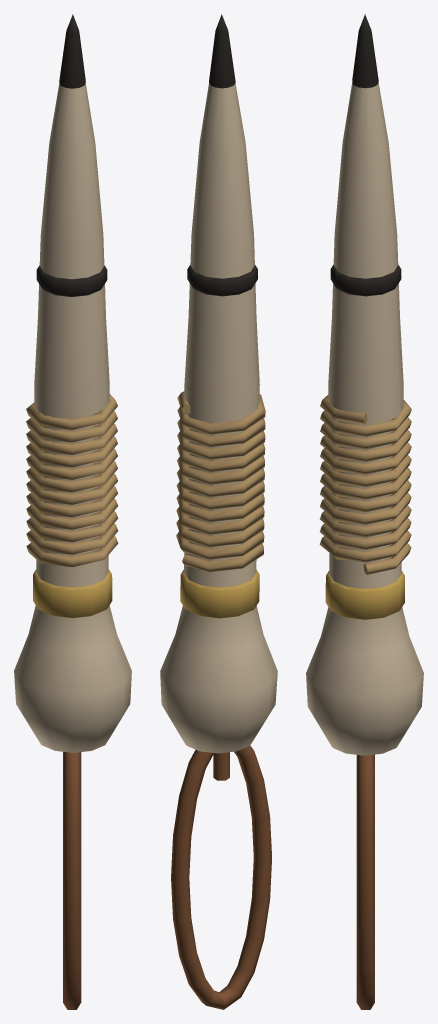
Rendered from tool_dibber.fbx.
3 renders of one model, left to right at view 1: azimuth 90°, elevation 25°; view 2: azimuth 210°, elevation 25°; view 3: azimuth 270°, elevation 25°, orthographic.
Visible parts, largest first — view 1: Tool_Dibber_Body, Tool_Dibber_Wrap, Tool_Dibber_Thong, Tool_Dibber_Marks, Tool_Dibber_Tip; view 2: Tool_Dibber_Body, Tool_Dibber_Wrap, Tool_Dibber_Thong, Tool_Dibber_Marks, Tool_Dibber_Tip; view 3: Tool_Dibber_Body, Tool_Dibber_Wrap, Tool_Dibber_Thong, Tool_Dibber_Marks, Tool_Dibber_Tip.
Part boxes in pixels (box(x1,y1,x2,y2)): Tool_Dibber_Body: box(14, 83, 131, 752); Tool_Dibber_Wrap: box(26, 394, 118, 566); Tool_Dibber_Thong: box(63, 752, 81, 1009); Tool_Dibber_Marks: box(33, 265, 112, 618); Tool_Dibber_Tip: box(59, 14, 85, 88); Tool_Dibber_Body: box(160, 83, 277, 753); Tool_Dibber_Wrap: box(176, 391, 265, 571); Tool_Dibber_Thong: box(171, 745, 271, 1009); Tool_Dibber_Marks: box(180, 265, 259, 618); Tool_Dibber_Tip: box(209, 14, 235, 88); Tool_Dibber_Body: box(306, 83, 423, 755); Tool_Dibber_Wrap: box(319, 395, 411, 574); Tool_Dibber_Thong: box(356, 754, 374, 1009); Tool_Dibber_Marks: box(325, 265, 404, 619); Tool_Dibber_Tip: box(352, 14, 378, 88).
Size of the model in its own units: 6.4 by 59.63 by 6.4.
